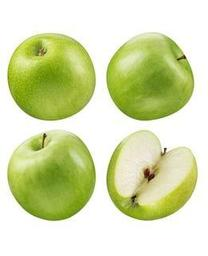apple: (106, 131, 198, 220), (6, 129, 94, 220), (7, 32, 95, 119), (106, 33, 194, 120)
